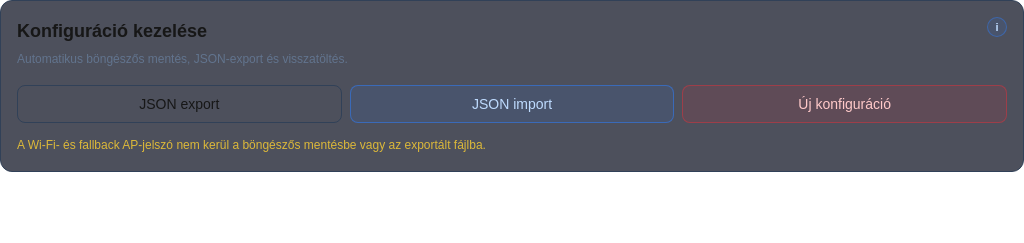
ConfigurationManager › megerősítés után visszaállítja az alapértékeket
The image size is (1024, 243).
Click the button "Új konfiguráció": [845, 104] box [682,85,1007,123]
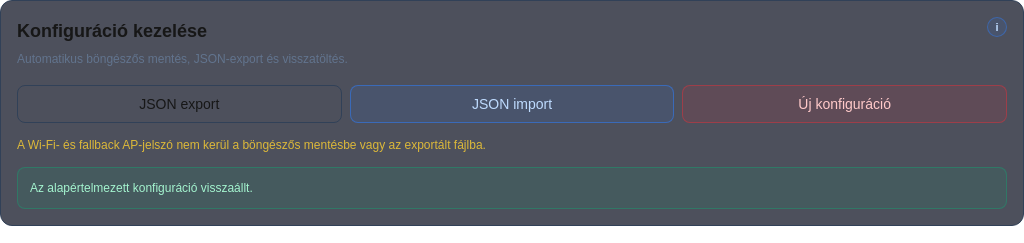
expect the message reads "Az alapértelmezett konfiguráció visszaállt.": met, box [30,181,253,195]
